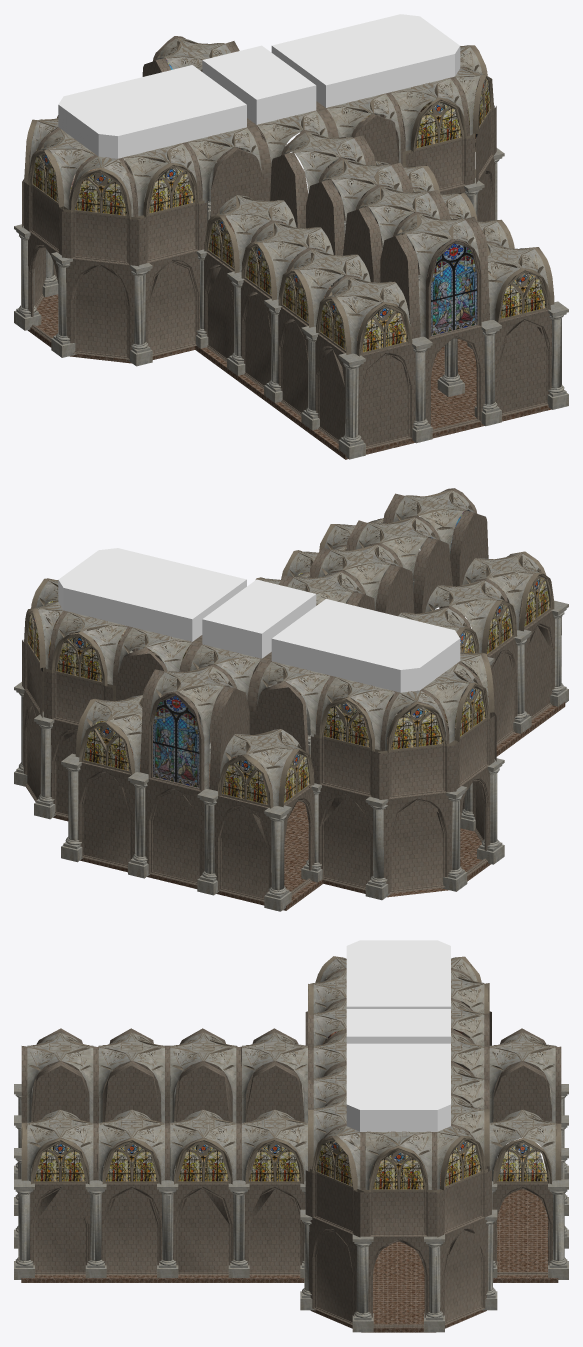
File: cathedral2.glb
The picture shows the model from 3 angles, top to bottom: view 1: azimuth 30°, elevation 25°; view 2: azimuth 150°, elevation 25°; view 3: azimuth 270°, elevation 25°; orthographic projection. The views are drawn at different scales.
Parts seen in each view (by area): view 1: g_big_window_frame_m_brick_0, g_tall_arc_and_detail_m_stone_0, g_ceiling_right_lambert1_0, g_window_m_dark_marble_0, g_window_m_small_glass_0, g_floor_m_floor_0, g_big_window_m_big_glass_0; view 2: g_big_window_frame_m_brick_0, g_tall_arc_and_detail_m_stone_0, g_ceiling_right_lambert1_0, g_window_m_dark_marble_0, g_window_m_small_glass_0, g_floor_m_floor_0, g_big_window_m_big_glass_0; view 3: g_big_window_frame_m_brick_0, g_tall_arc_and_detail_m_stone_0, g_window_m_dark_marble_0, g_ceiling_right_lambert1_0, g_floor_m_floor_0, g_window_m_small_glass_0.
Part boxes in pixels (<box>): g_big_window_frame_m_brick_0: <box>22,36,551,449</box>; g_tall_arc_and_detail_m_stone_0: <box>14,38,568,459</box>; g_ceiling_right_lambert1_0: <box>58,14,460,160</box>; g_window_m_dark_marble_0: <box>24,38,554,356</box>; g_window_m_small_glass_0: <box>33,67,546,352</box>; g_floor_m_floor_0: <box>27,216,551,459</box>; g_big_window_m_big_glass_0: <box>160,57,477,335</box>; g_big_window_frame_m_brick_0: <box>22,488,554,901</box>; g_tall_arc_and_detail_m_stone_0: <box>14,490,568,911</box>; g_ceiling_right_lambert1_0: <box>58,548,460,693</box>; g_window_m_dark_marble_0: <box>24,490,554,808</box>; g_window_m_small_glass_0: <box>28,572,549,804</box>; g_floor_m_floor_0: <box>26,683,565,910</box>; g_big_window_m_big_glass_0: <box>153,509,475,787</box>; g_big_window_frame_m_brick_0: <box>21,968,561,1327</box>; g_tall_arc_and_detail_m_stone_0: <box>14,958,568,1332</box>; g_window_m_dark_marble_0: <box>21,956,561,1192</box>; g_ceiling_right_lambert1_0: <box>346,940,450,1131</box>; g_floor_m_floor_0: <box>21,1137,558,1332</box>; g_window_m_small_glass_0: <box>34,968,548,1189</box>.
Size of the model in its own units: 179 by 83.67 by 202.
Materials: 16 (14 with a texture image).
